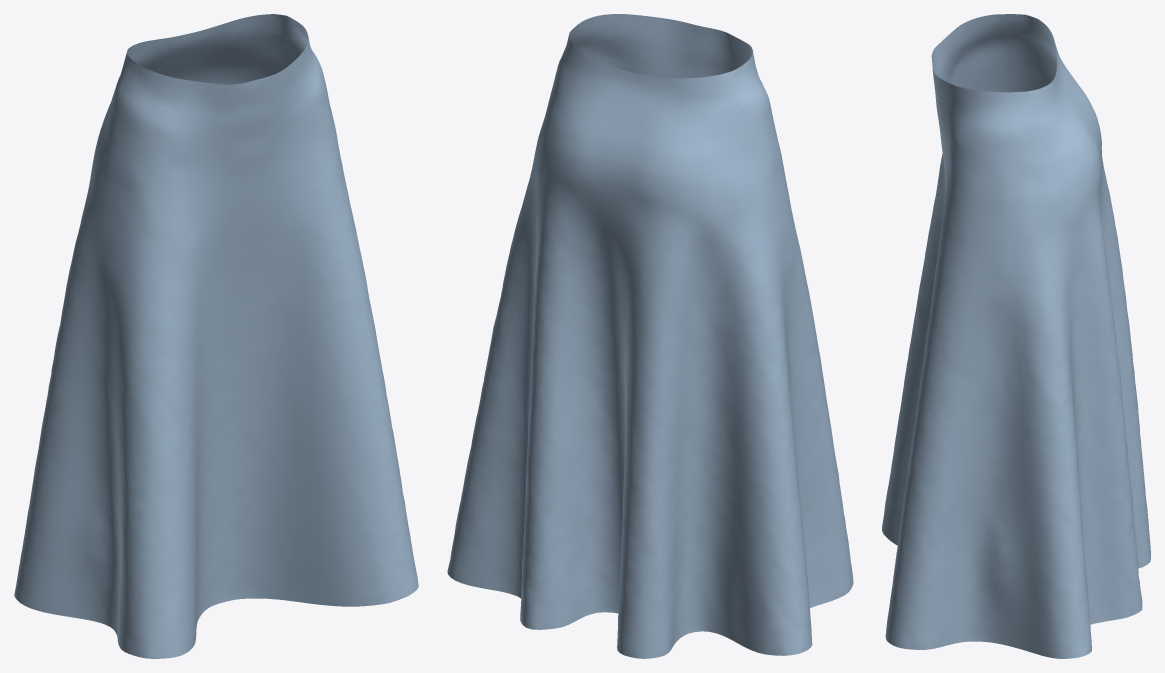
The model's file is skirt_XS.glb.
3 views of the same model, side by side, from view 1: azimuth 30°, elevation 25°; view 2: azimuth 150°, elevation 25°; view 3: azimuth 270°, elevation 25° (orthographic). The views are drawn at different scales.
Visible parts, largest first — view 1: geometry_0; view 2: geometry_0; view 3: geometry_0.
Boxes of the visible parts, x1=… form: geometry_0: x1=14, y1=14, x2=418, y2=658; geometry_0: x1=447, y1=14, x2=853, y2=658; geometry_0: x1=882, y1=14, x2=1150, y2=658.
Size of the model in its own units: 0.5394 by 0.8191 by 0.3719.
